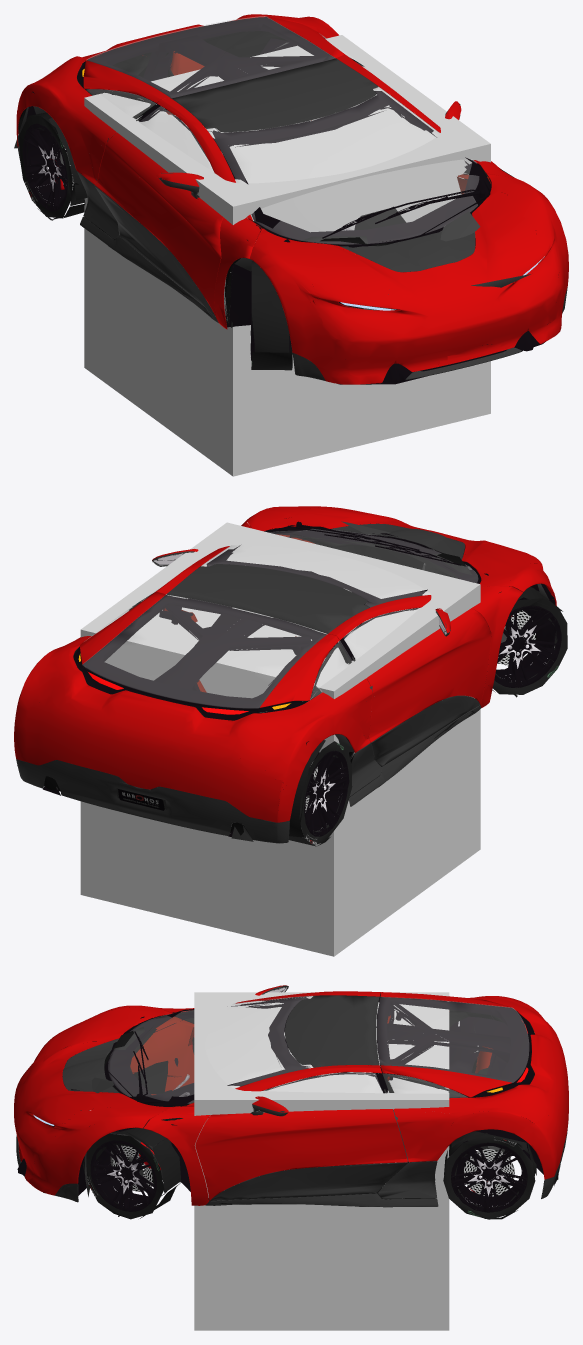
Rendered from veiculo-carconcept-realista-distante.glb.
3 views of the same model, one above another, from view 1: azimuth 30°, elevation 25°; view 2: azimuth 150°, elevation 25°; view 3: azimuth 270°, elevation 25° (orthographic). The views are drawn at different scales.
Visible parts, largest first — view 1: Cube, BodyHood, BodyWindshield, BodyRearwindow, BodyDoorRColor1, BodyRoofPanel, BodyRearPanelsColor1, BodyWindshieldGasket, BodyPillars, InteriorRearHatch, BodyPanelsColor2, InteriorPillar (+13 smaller); view 2: Cube, BodyRearPanelsColor1, BodyRearwindow, BodyPanelsColor2, BodyDoorRColor1, BodyWindshield, BodyRoofPanel, BodyHood, InteriorRearHatch, InteriorPillar, BodyPillars, WheelFrontRRim (+13 smaller); view 3: Cube, BodyRearPanelsColor1, BodyHood, BodyDoorLColor1, BodyWindshield, BodyRearwindow, BodyRoofPanel, BodyPillars, BodyDoorLColor2, BodyPanelsColor2, BodyWindshieldGasket, InteriorRearHatch (+17 smaller).
Boxes of the visible parts, <box> form: Cube: <box>84,35,490,476</box>; BodyHood: <box>249,173,568,384</box>; BodyWindshield: <box>207,87,478,244</box>; BodyRearwindow: <box>87,16,335,97</box>; BodyDoorRColor1: <box>95,132,223,315</box>; BodyRoofPanel: <box>171,58,378,132</box>; BodyRearPanelsColor1: <box>16,14,346,184</box>; BodyWindshieldGasket: <box>212,91,491,247</box>; BodyPillars: <box>157,55,521,329</box>; InteriorRearHatch: <box>85,17,335,104</box>; BodyPanelsColor2: <box>17,143,567,380</box>; InteriorPillar: <box>143,35,373,145</box>; Cube: <box>80,522,480,956</box>; BodyRearPanelsColor1: <box>14,592,372,822</box>; BodyRearwindow: <box>82,595,326,708</box>; BodyPanelsColor2: <box>16,647,552,843</box>; BodyDoorRColor1: <box>366,608,491,742</box>; BodyWindshield: <box>202,529,477,607</box>; BodyRoofPanel: <box>166,564,369,633</box>; BodyHood: <box>244,506,556,605</box>; InteriorRearHatch: <box>83,595,336,712</box>; InteriorPillar: <box>154,598,367,690</box>; BodyPillars: <box>154,522,522,707</box>; WheelFrontRRim: <box>494,605,561,687</box>; Cube: <box>194,992,449,1330</box>; BodyRearPanelsColor1: <box>380,992,568,1179</box>; BodyHood: <box>14,1005,172,1195</box>; BodyDoorLColor1: <box>195,1109,407,1200</box>; BodyWindshield: <box>108,996,312,1103</box>; BodyRearwindow: <box>377,997,528,1082</box>; BodyRoofPanel: <box>285,995,379,1067</box>; BodyPillars: <box>143,991,381,1205</box>; BodyDoorLColor2: <box>210,1162,407,1200</box>; BodyPanelsColor2: <box>16,1127,567,1207</box>; BodyWindshieldGasket: <box>104,997,310,1106</box>; InteriorRearHatch: <box>377,997,528,1097</box>.
Bounding box in the file's own units: 2.55 × 2.15 × 4.36.
24 materials, 6 textured.
